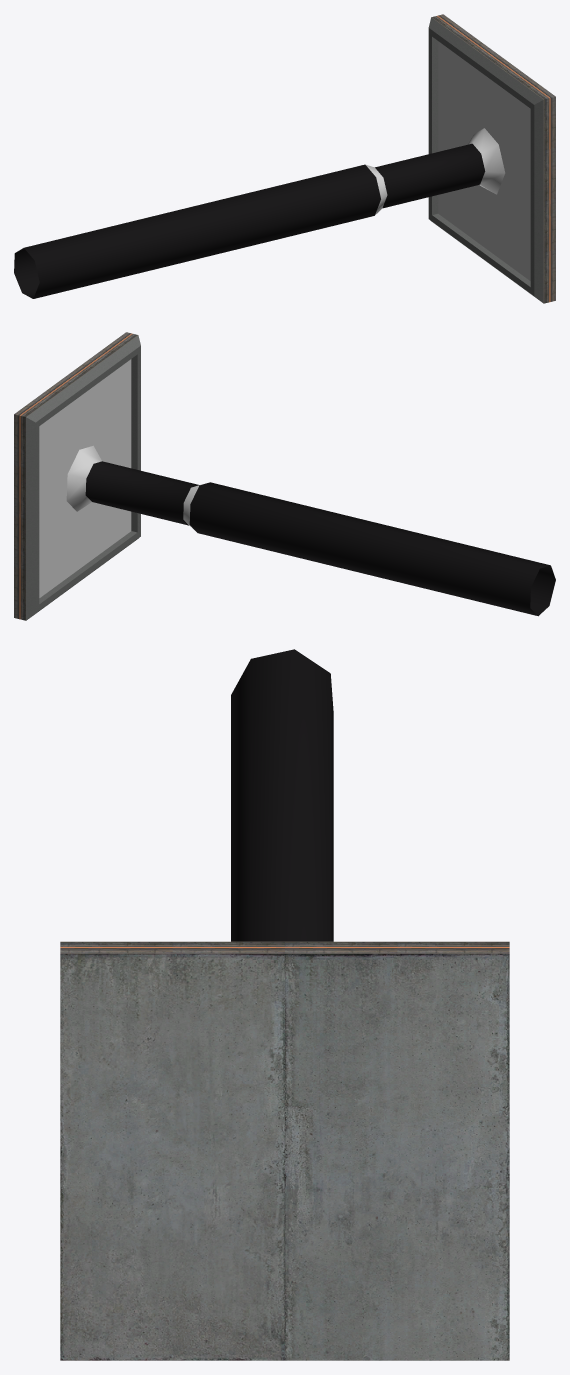
Rendered from Chamber10_SinglePlatform.fbx.
The picture shows the model from 3 angles, top to bottom: view 1: azimuth 30°, elevation 25°; view 2: azimuth 150°, elevation 25°; view 3: azimuth 270°, elevation 25°; orthographic projection. The views are drawn at different scales.
Visible parts, largest first — view 1: Chamber_10_SinglePlatform; view 2: Chamber_10_SinglePlatform; view 3: Chamber_10_SinglePlatform.
Boxes of the visible parts, bbox=[...] form: Chamber_10_SinglePlatform: bbox=[14, 14, 555, 303]; Chamber_10_SinglePlatform: bbox=[14, 332, 555, 620]; Chamber_10_SinglePlatform: bbox=[60, 649, 509, 1360].
Size of the model in its own units: 592 by 244 by 244.
